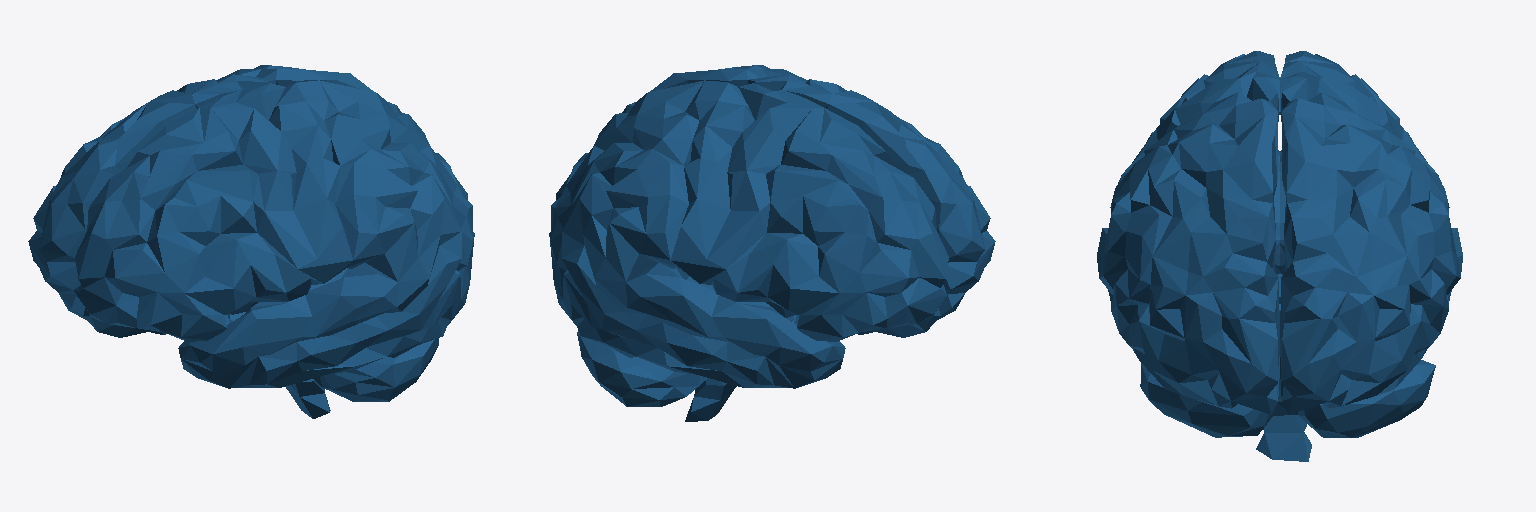
Rendered from Brain.obj.
3 views of the same model, side by side, from view 1: azimuth 30°, elevation 25°; view 2: azimuth 150°, elevation 25°; view 3: azimuth 270°, elevation 25° (orthographic).
Visible parts, largest first — view 1: BRAIN; view 2: BRAIN; view 3: BRAIN.
Part boxes in pixels (x1,y1,x2,y2): BRAIN: (28,65,474,418); BRAIN: (549,65,995,421); BRAIN: (1097,51,1462,461).
Bounding box in the file's own units: 214 × 180 × 172.